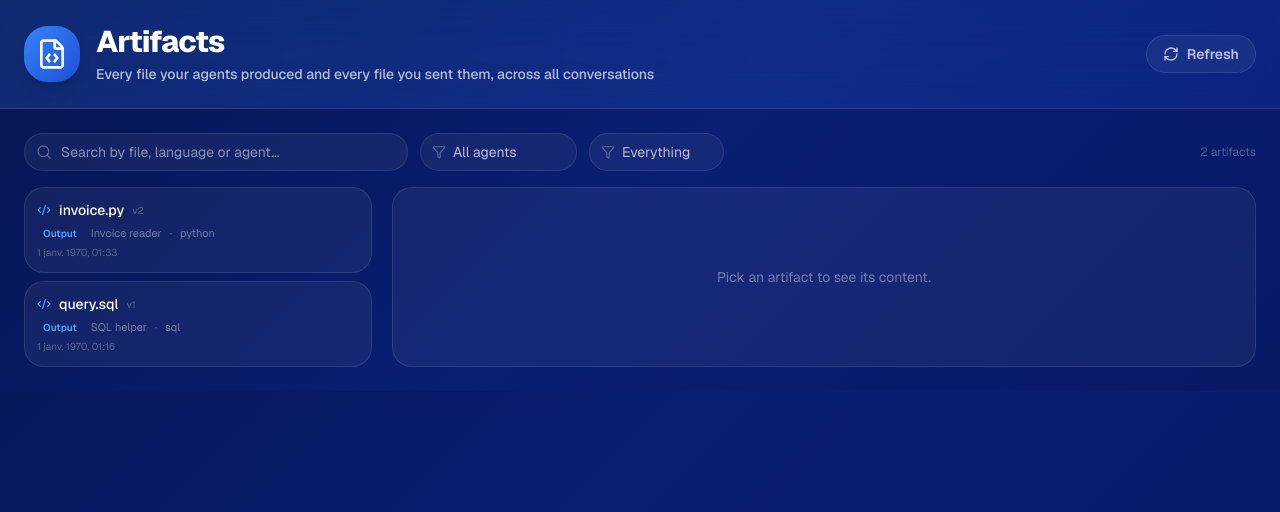
Test: ArtifactsLibrary › loads the body of an artifact when it is selected
The width and height of the screenshot is (1280, 512).
Step 1. Click the text "invoice.py" → (92,210), box [59,200,124,220]
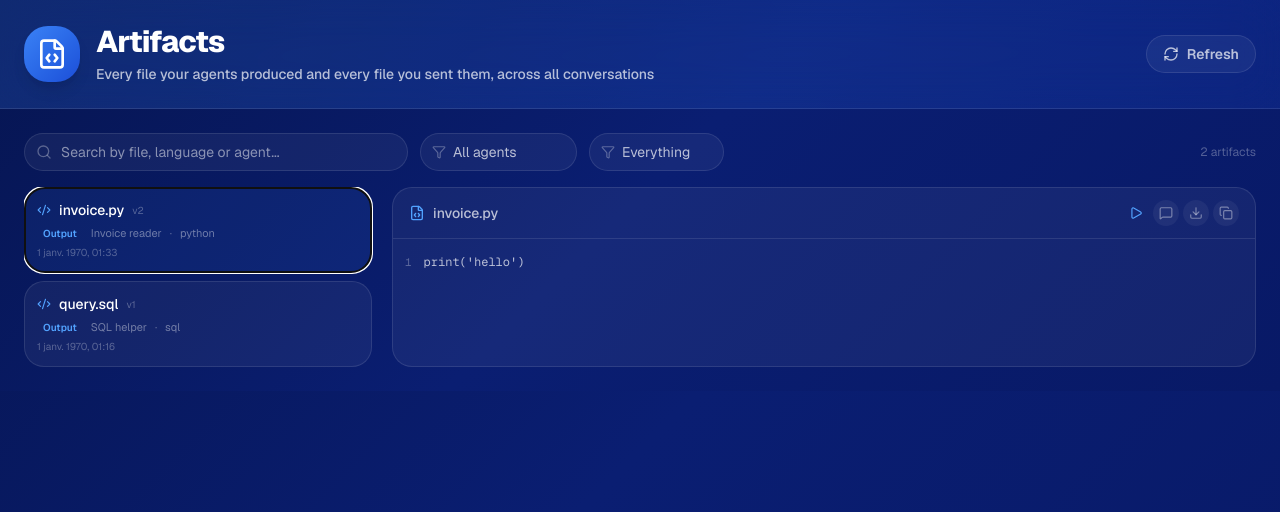
expect the text "print('hello')" is shown: met, box [424,254,524,270]
